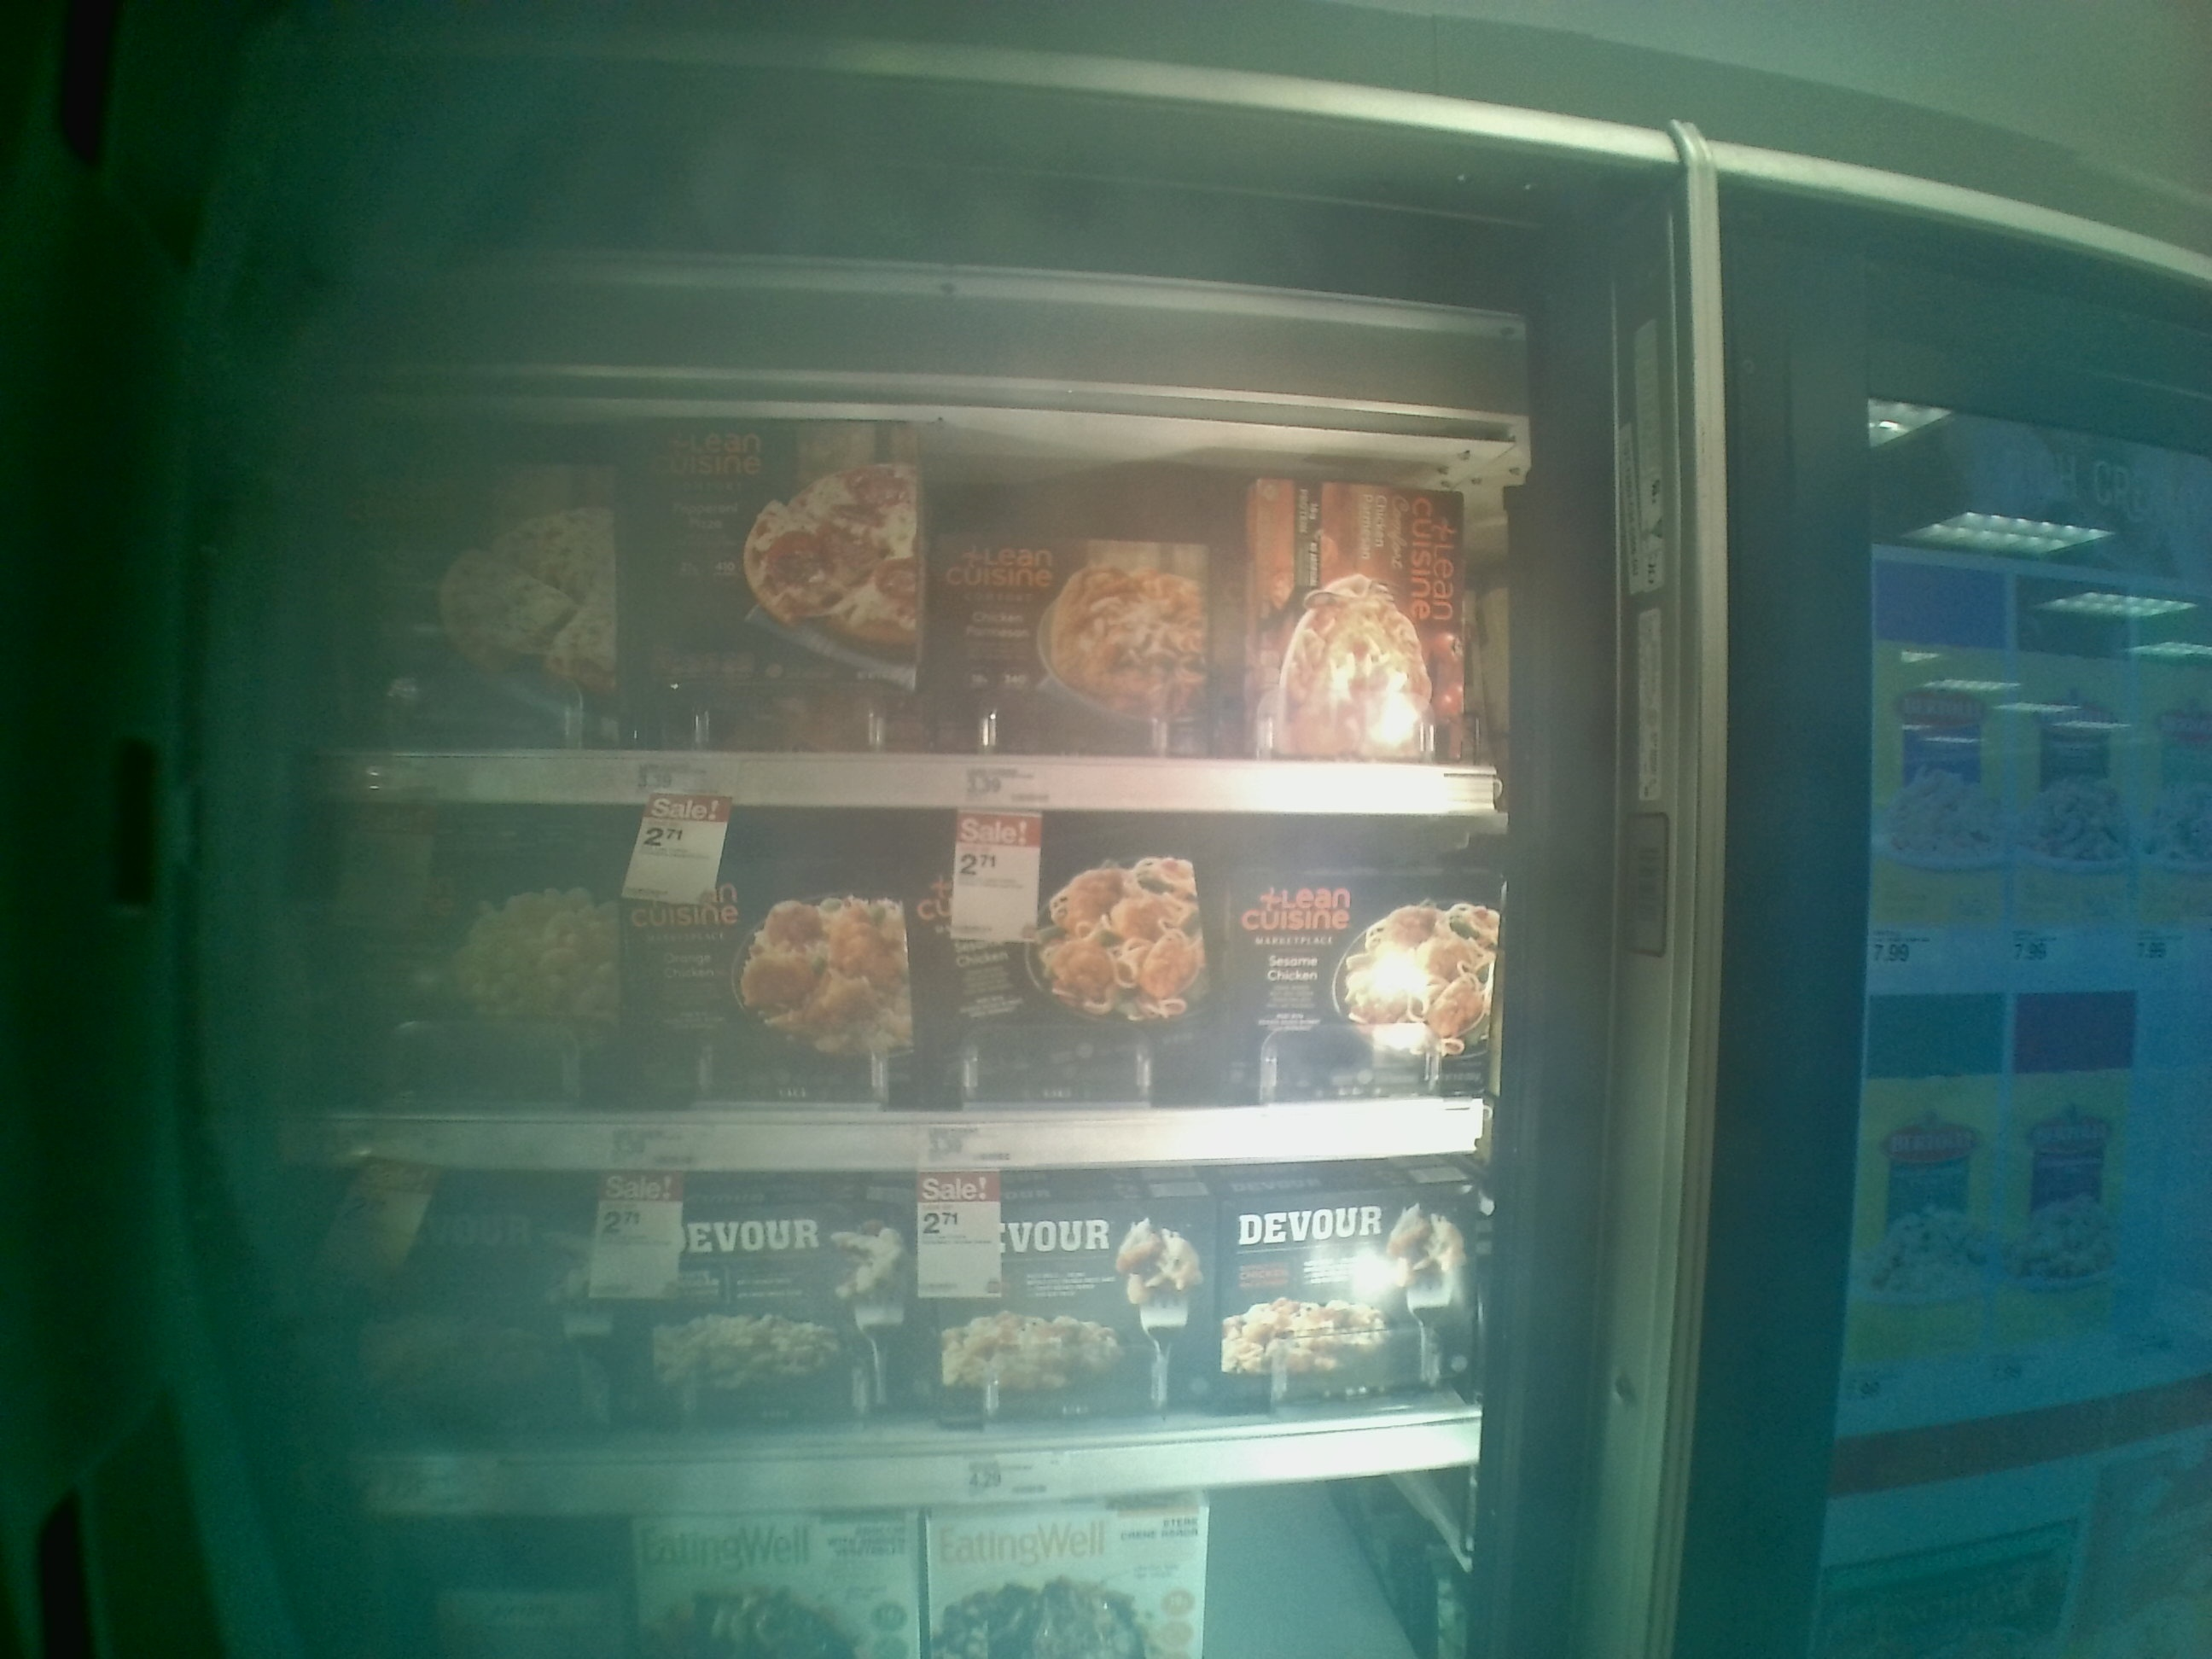shelf: (301, 385, 1505, 814), (310, 802, 1510, 1175), (320, 1162, 1489, 1521)
